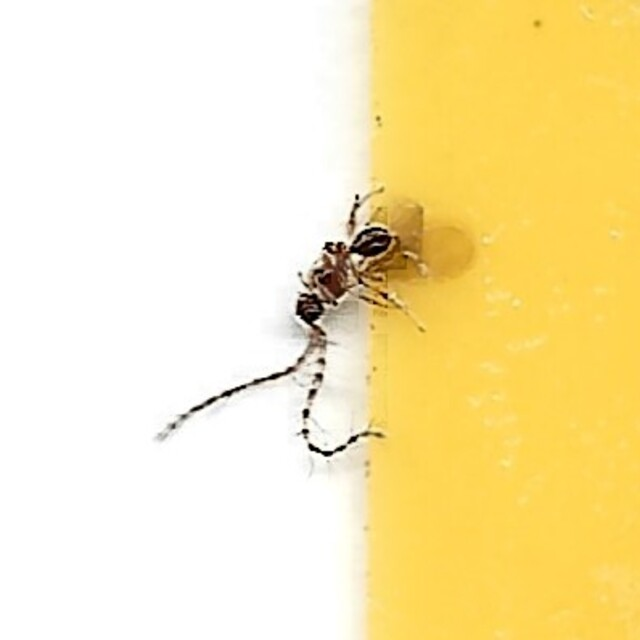Hymenoptera: (161, 183, 479, 457)
